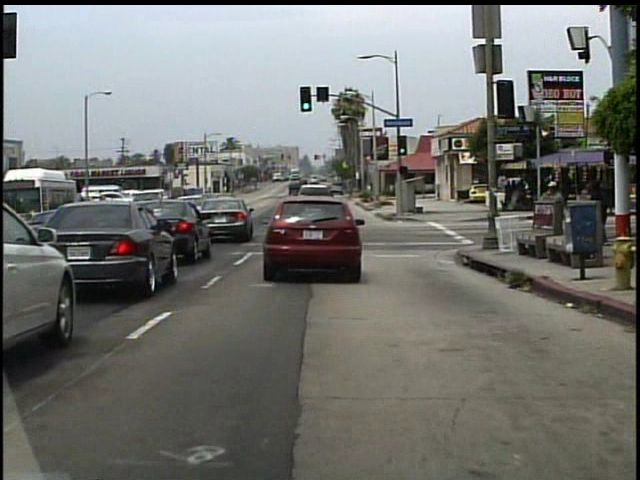person: (537, 175, 566, 251), (589, 179, 607, 245)
